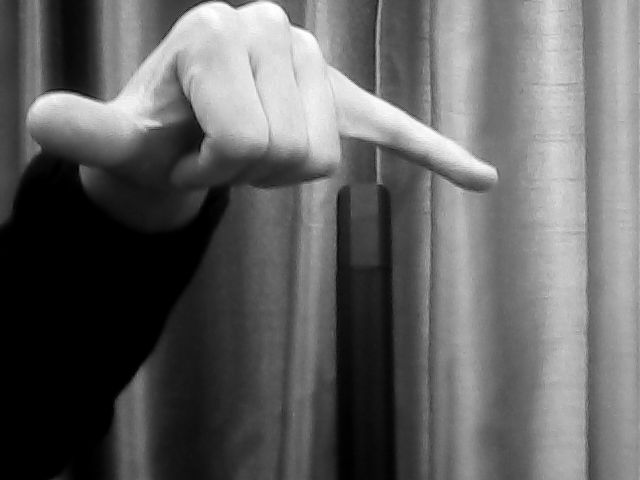aloha: (16, 1, 506, 207)
